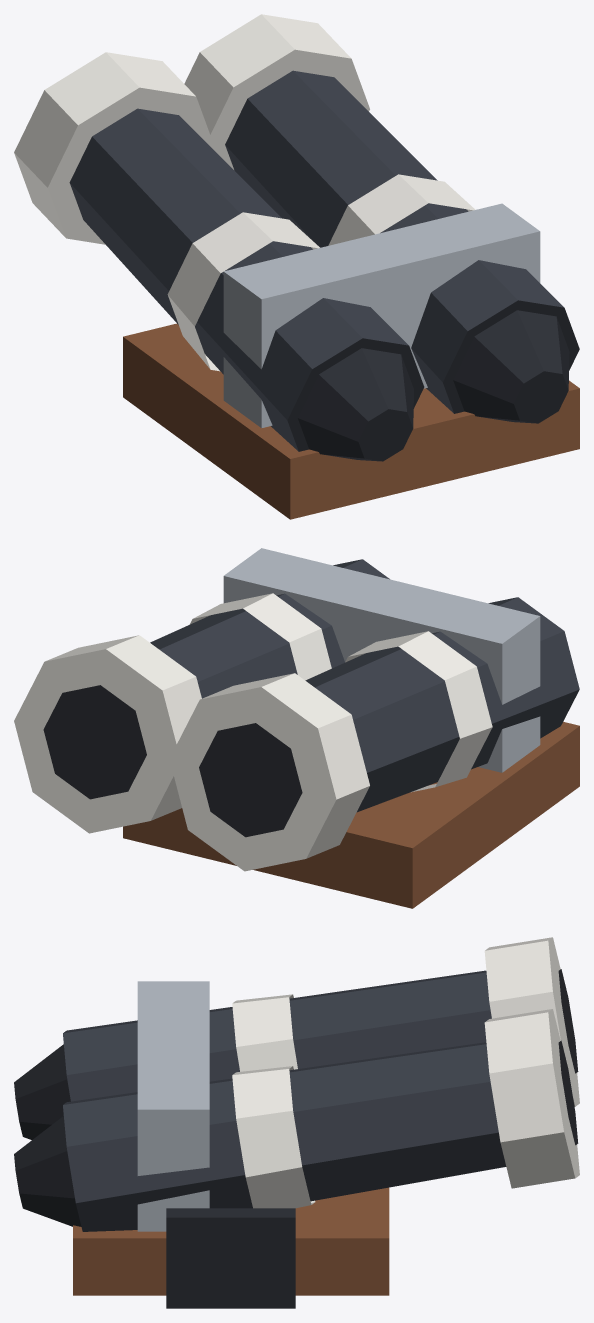
File: G_Topik_2.fbx
3 views of the same model, one above another, from view 1: azimuth 30°, elevation 25°; view 2: azimuth 150°, elevation 25°; view 3: azimuth 270°, elevation 25° (orthographic). The views are drawn at different scales.
Parts seen in each view (by area): view 1: G_Topik_2; view 2: G_Topik_2; view 3: G_Topik_2.
Part boxes in pixels (bbox=[...]): G_Topik_2: bbox=[14, 14, 579, 519]; G_Topik_2: bbox=[14, 548, 579, 908]; G_Topik_2: bbox=[14, 937, 579, 1308].
Bounding box in the file's own units: 0.2846 × 0.2263 × 0.4528.
